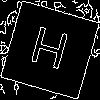H: (25, 25, 72, 80)
